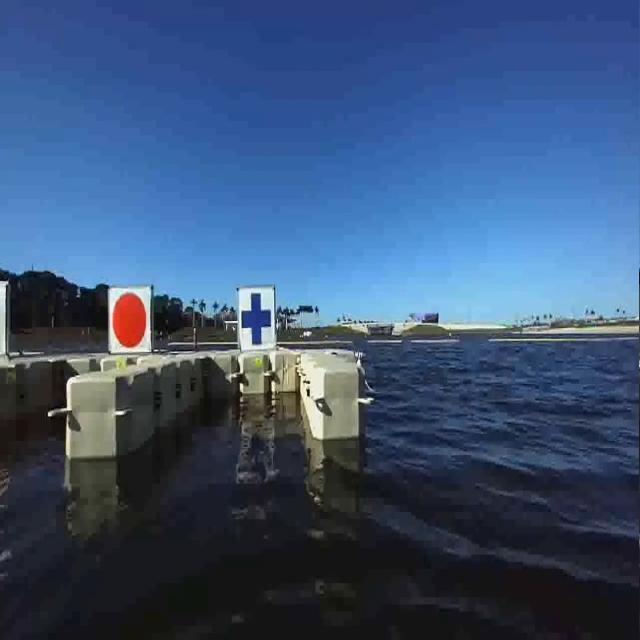blue-cross: (238, 286, 278, 356)
red-dot: (107, 279, 155, 360)
